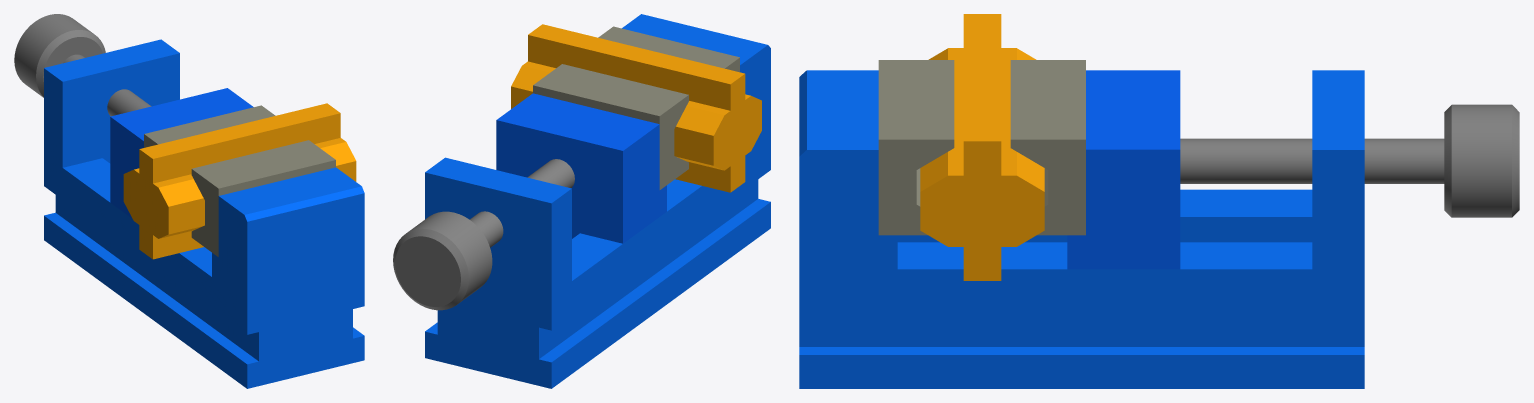
3 renders of one model, left to right at view 1: azimuth 30°, elevation 25°; view 2: azimuth 150°, elevation 25°; view 3: azimuth 270°, elevation 25°, orthographic. The views are drawn at different scales.
Parts seen in each view (by area): view 1: 2_com_peca; view 2: 2_com_peca; view 3: 2_com_peca.
Boxes of the visible parts, x1=… form: 2_com_peca: x1=14, y1=14, x2=364, y2=388; 2_com_peca: x1=393, y1=14, x2=770, y2=388; 2_com_peca: x1=799, y1=14, x2=1519, y2=388.
Size of the model in its own units: 2.71 by 2.69 by 6.47.
